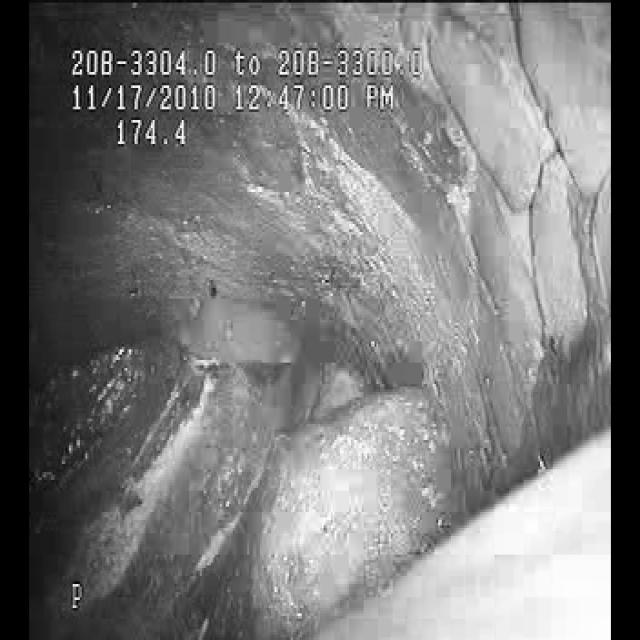Fracture: (444, 70, 598, 397)
